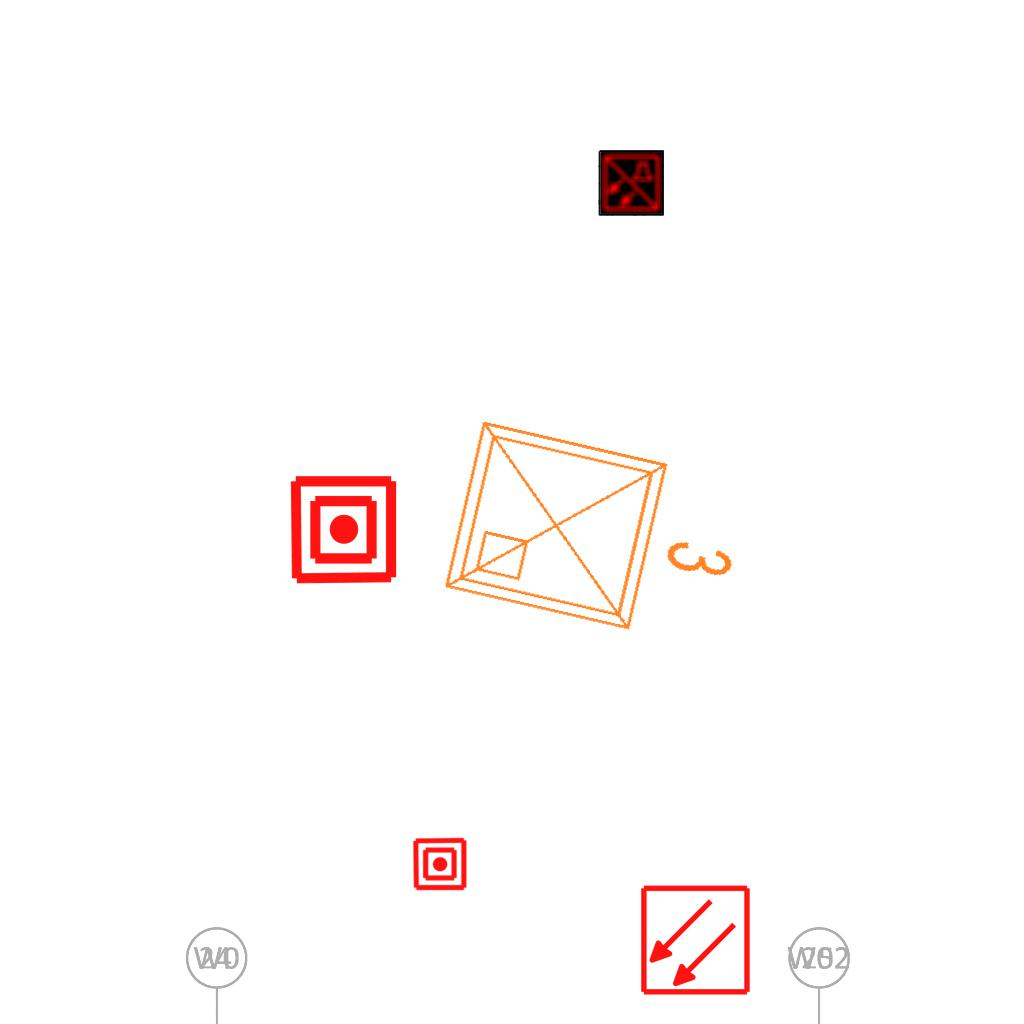Einbaudownlights_LED_Konferenzraeume: (427, 395, 767, 667)
NAM-Nichtautomatischer_Melder: (287, 473, 400, 586), (411, 835, 469, 893)
OKW_Multisensormelder_(Kombination_optischer_Rauch-Kahlenmonoxid_Waerme-Melder): (598, 150, 664, 216)
RMO_Rauchmelder_optischer: (639, 884, 752, 997)
